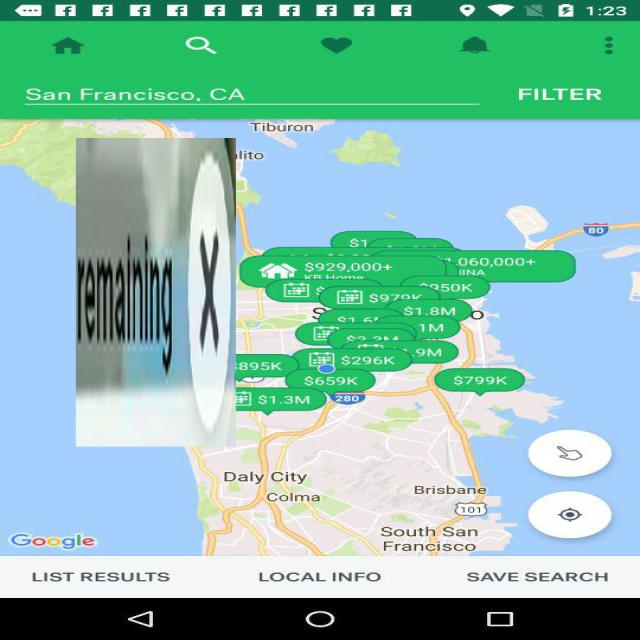misdirection: (76, 138, 236, 447)
